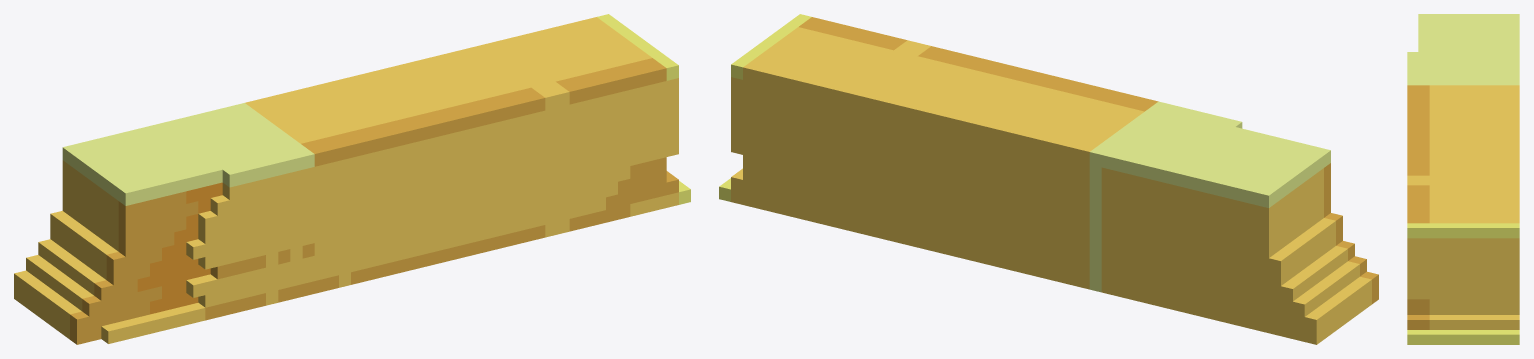
The model's file is shanti5.obj.
The picture shows the model from 3 angles, left to right: view 1: azimuth 30°, elevation 25°; view 2: azimuth 150°, elevation 25°; view 3: azimuth 270°, elevation 25°; orthographic projection. The views are drawn at different scales.
Bounding box in the file's own units: 50 × 11 × 10.
Materials: 1 (1 with a texture image).
